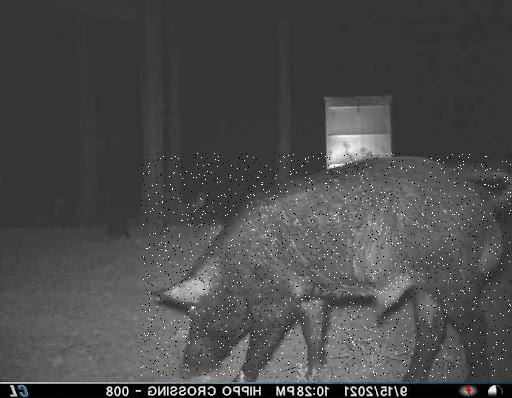Hog: (141, 153, 511, 378)
